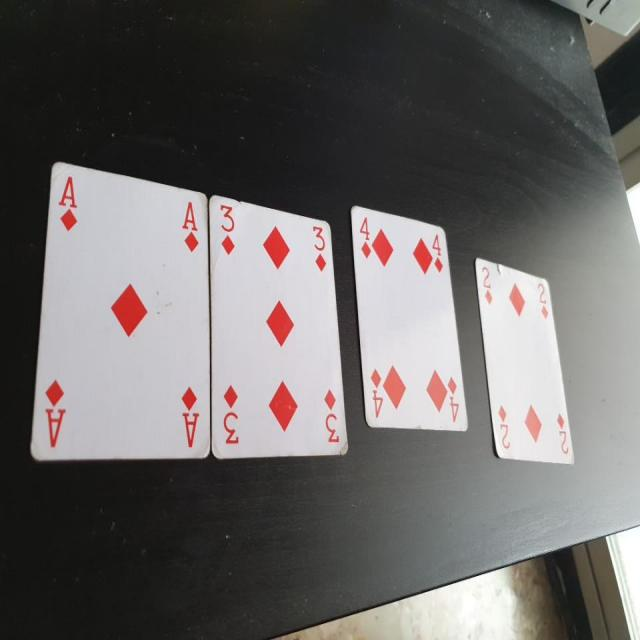2 Diamonds: (475, 253, 578, 467)
3 Diamonds: (206, 188, 350, 462)
4 Diamonds: (348, 200, 472, 439)
A Diamonds: (24, 154, 213, 460)
